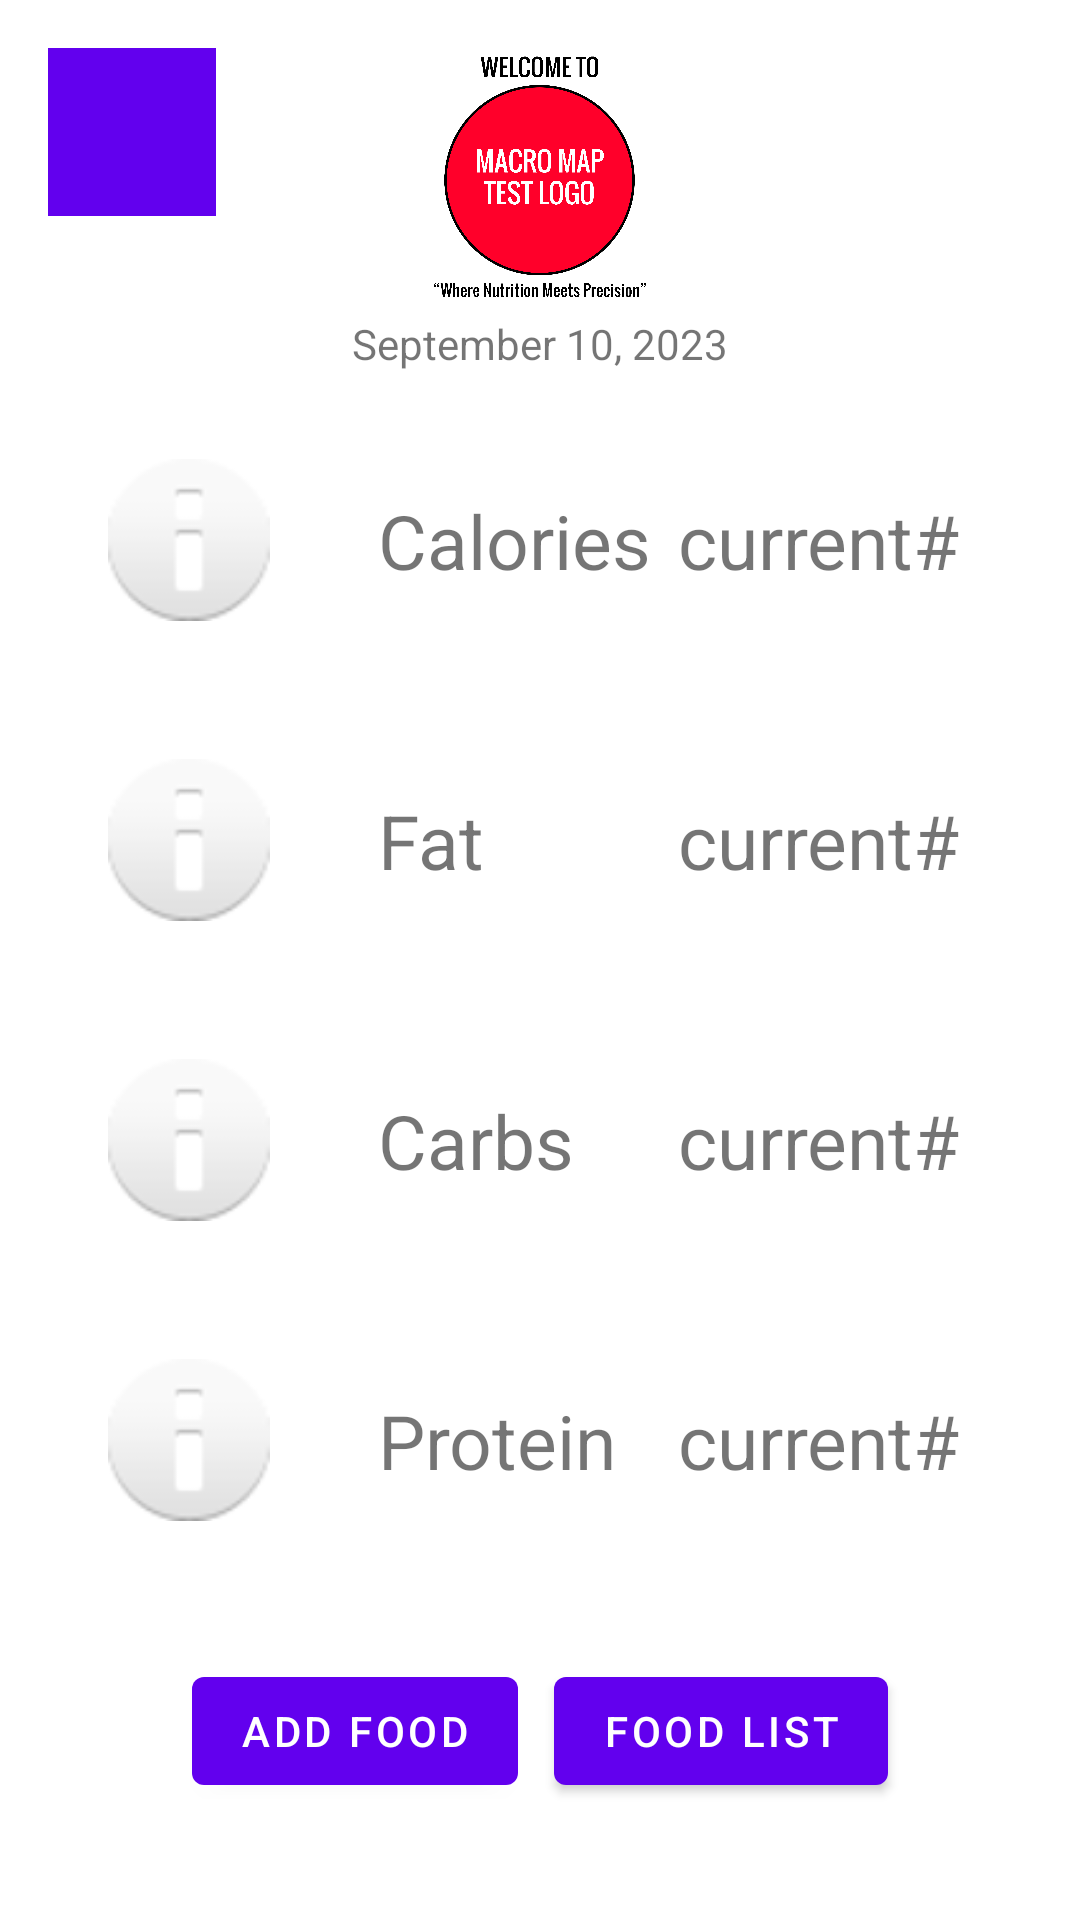

Where icons sit on this 1080px x 1920px app screen, as BBox(x1, y1, x2, y2):
info: BBox(108, 489, 270, 621), BBox(108, 789, 270, 921), BBox(108, 1089, 270, 1221), BBox(108, 1389, 270, 1521)
